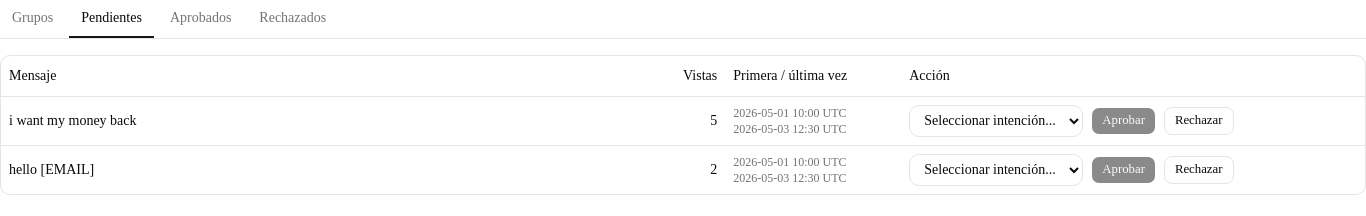
Test: ReviewQueue › keeps Approve disabled until an intent is chosen, then approves and reports the embedding
expect the button "Aprobar" in the row of "i want my money back" is disabled: met, box [1091, 106, 1156, 134]
Select "refund" in the dropdown named "intención" in the row of "i want my money back" at (996, 120), box [909, 104, 1083, 136]
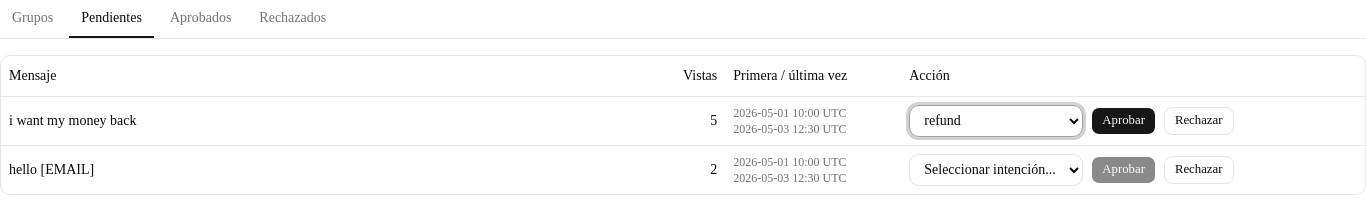
Click the button "Aprobar" in the row of "i want my money back" at (1124, 120), box [1091, 106, 1156, 134]
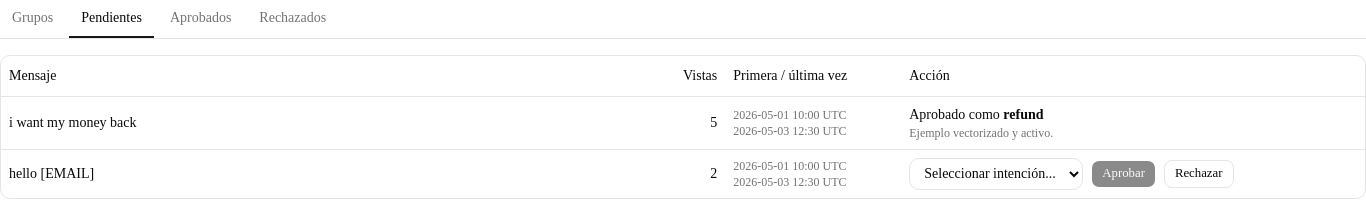
expect the text "Aprobado como refund" is shown: met, box [909, 106, 1044, 122]
